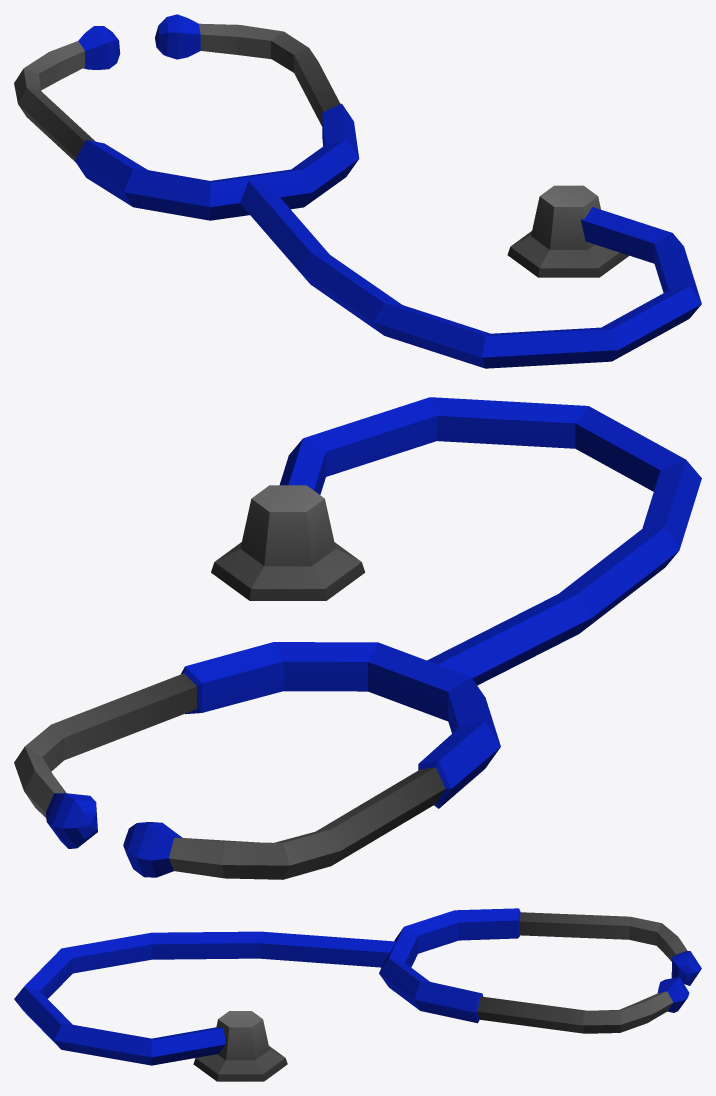
Rendered from Estetoscopio 1.fbx.
3 views of the same model, one above another, from view 1: azimuth 30°, elevation 25°; view 2: azimuth 150°, elevation 25°; view 3: azimuth 270°, elevation 25° (orthographic). The views are drawn at different scales.
Parts seen in each view (by area): view 1: Estetoscopio; view 2: Estetoscopio; view 3: Estetoscopio.
Part boxes in pixels (x1=…): Estetoscopio: x1=14, y1=14, x2=701, y2=368; Estetoscopio: x1=14, y1=397, x2=701, y2=879; Estetoscopio: x1=14, y1=908, x2=701, y2=1081.
Bounding box in the file's own units: 45.14 × 6.87 × 94.87.
